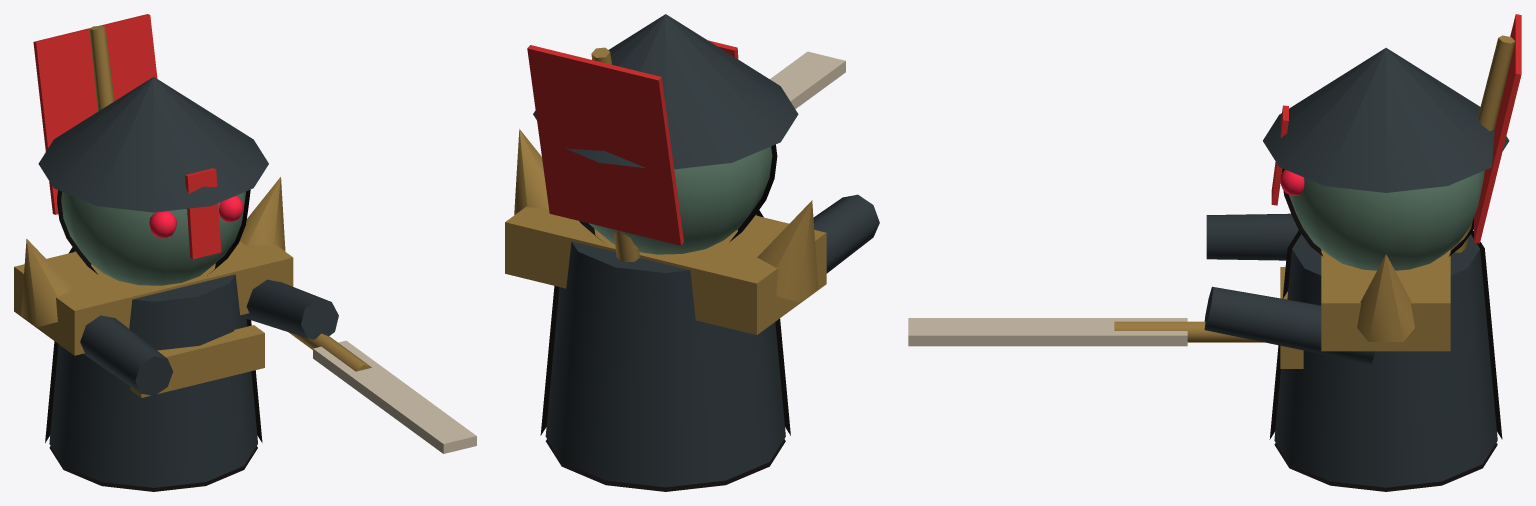
Rendered from magiap_boss.glb.
3 renders of one model, left to right at view 1: azimuth 30°, elevation 25°; view 2: azimuth 150°, elevation 25°; view 3: azimuth 270°, elevation 25°, orthographic. The views are drawn at different scales.
Visible parts, largest first — view 1: MGB_Torso, MGB_Helmet, MGB_Shoulder, MGB_Head, MGB_BannerCloth, MGB_SwordBlade, MGB_Arm_L, MGB_Breastplate, MGB_Arm_R, MGB_Spike_0, MGB_Talisman, MGB_Spike_1 (+6 smaller); view 2: MGB_Torso, MGB_BannerCloth, MGB_Helmet, MGB_Shoulder, MGB_Head, MGB_Spike_0, MGB_Arm_L, MGB_Torso_outline, MGB_SwordBlade, MGB_Spike_1, MGB_BannerPole, MGB_Head_outline; view 3: MGB_Torso, MGB_Helmet, MGB_Head, MGB_Shoulder, MGB_SwordBlade, MGB_Arm_R, MGB_Arm_L, MGB_Spike_1, MGB_Torso_outline, MGB_BannerCloth, MGB_BannerPole, MGB_SwordHilt (+1 smaller).
Part boxes in pixels (x1=…): MGB_Torso: x1=49, y1=251, x2=257, y2=487; MGB_Helmet: x1=38, y1=77, x2=268, y2=212; MGB_Shoulder: x1=14, y1=241, x2=293, y2=355; MGB_Head: x1=61, y1=191, x2=245, y2=285; MGB_BannerCloth: x1=33, y1=14, x2=157, y2=214; MGB_SwordBlade: x1=313, y1=340, x2=476, y2=453; MGB_Arm_L: x1=80, y1=315, x2=173, y2=395; MGB_Breastplate: x1=130, y1=325, x2=264, y2=397; MGB_Arm_R: x1=245, y1=279, x2=338, y2=339; MGB_Spike_0: x1=21, y1=239, x2=73, y2=327; MGB_Talisman: x1=185, y1=168, x2=221, y2=259; MGB_Spike_1: x1=240, y1=177, x2=285, y2=251; MGB_Torso: x1=545, y1=214, x2=785, y2=487; MGB_BannerCloth: x1=527, y1=45, x2=683, y2=245; MGB_Helmet: x1=533, y1=14, x2=798, y2=169; MGB_Shoulder: x1=505, y1=206, x2=826, y2=334; MGB_Head: x1=589, y1=146, x2=772, y2=254; MGB_Spike_0: x1=757, y1=200, x2=818, y2=302; MGB_Arm_L: x1=813, y1=194, x2=879, y2=273; MGB_Torso_outline: x1=540, y1=210, x2=790, y2=491; MGB_SwordBlade: x1=770, y1=51, x2=845, y2=108; MGB_Spike_1: x1=514, y1=129, x2=548, y2=214; MGB_BannerPole: x1=591, y1=47, x2=639, y2=261; MGB_Head_outline: x1=579, y1=144, x2=777, y2=242; MGB_Torso: x1=1274, y1=234, x2=1497, y2=487; MGB_Helmet: x1=1263, y1=48, x2=1509, y2=192; MGB_Head: x1=1289, y1=170, x2=1484, y2=270; MGB_Shoulder: x1=1321, y1=249, x2=1450, y2=351; MGB_SwordBlade: x1=908, y1=318, x2=1187, y2=346; MGB_Arm_R: x1=1204, y1=286, x2=1375, y2=364; MGB_Arm_L: x1=1206, y1=213, x2=1298, y2=260; MGB_Spike_1: x1=1357, y1=254, x2=1414, y2=341; MGB_Torso_outline: x1=1269, y1=230, x2=1502, y2=491; MGB_BannerCloth: x1=1474, y1=14, x2=1521, y2=243; MGB_BannerPole: x1=1450, y1=35, x2=1515, y2=252; MGB_SwordHilt: x1=1114, y1=321, x2=1264, y2=342.
Bounding box in the file's own units: 1.87 × 2.67 × 3.65.
